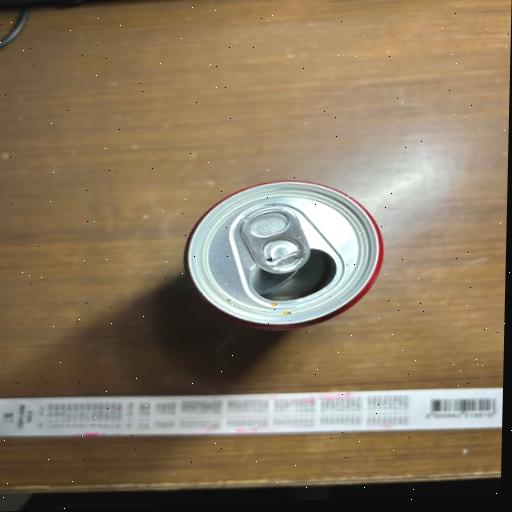canned: (157, 147, 422, 357)
